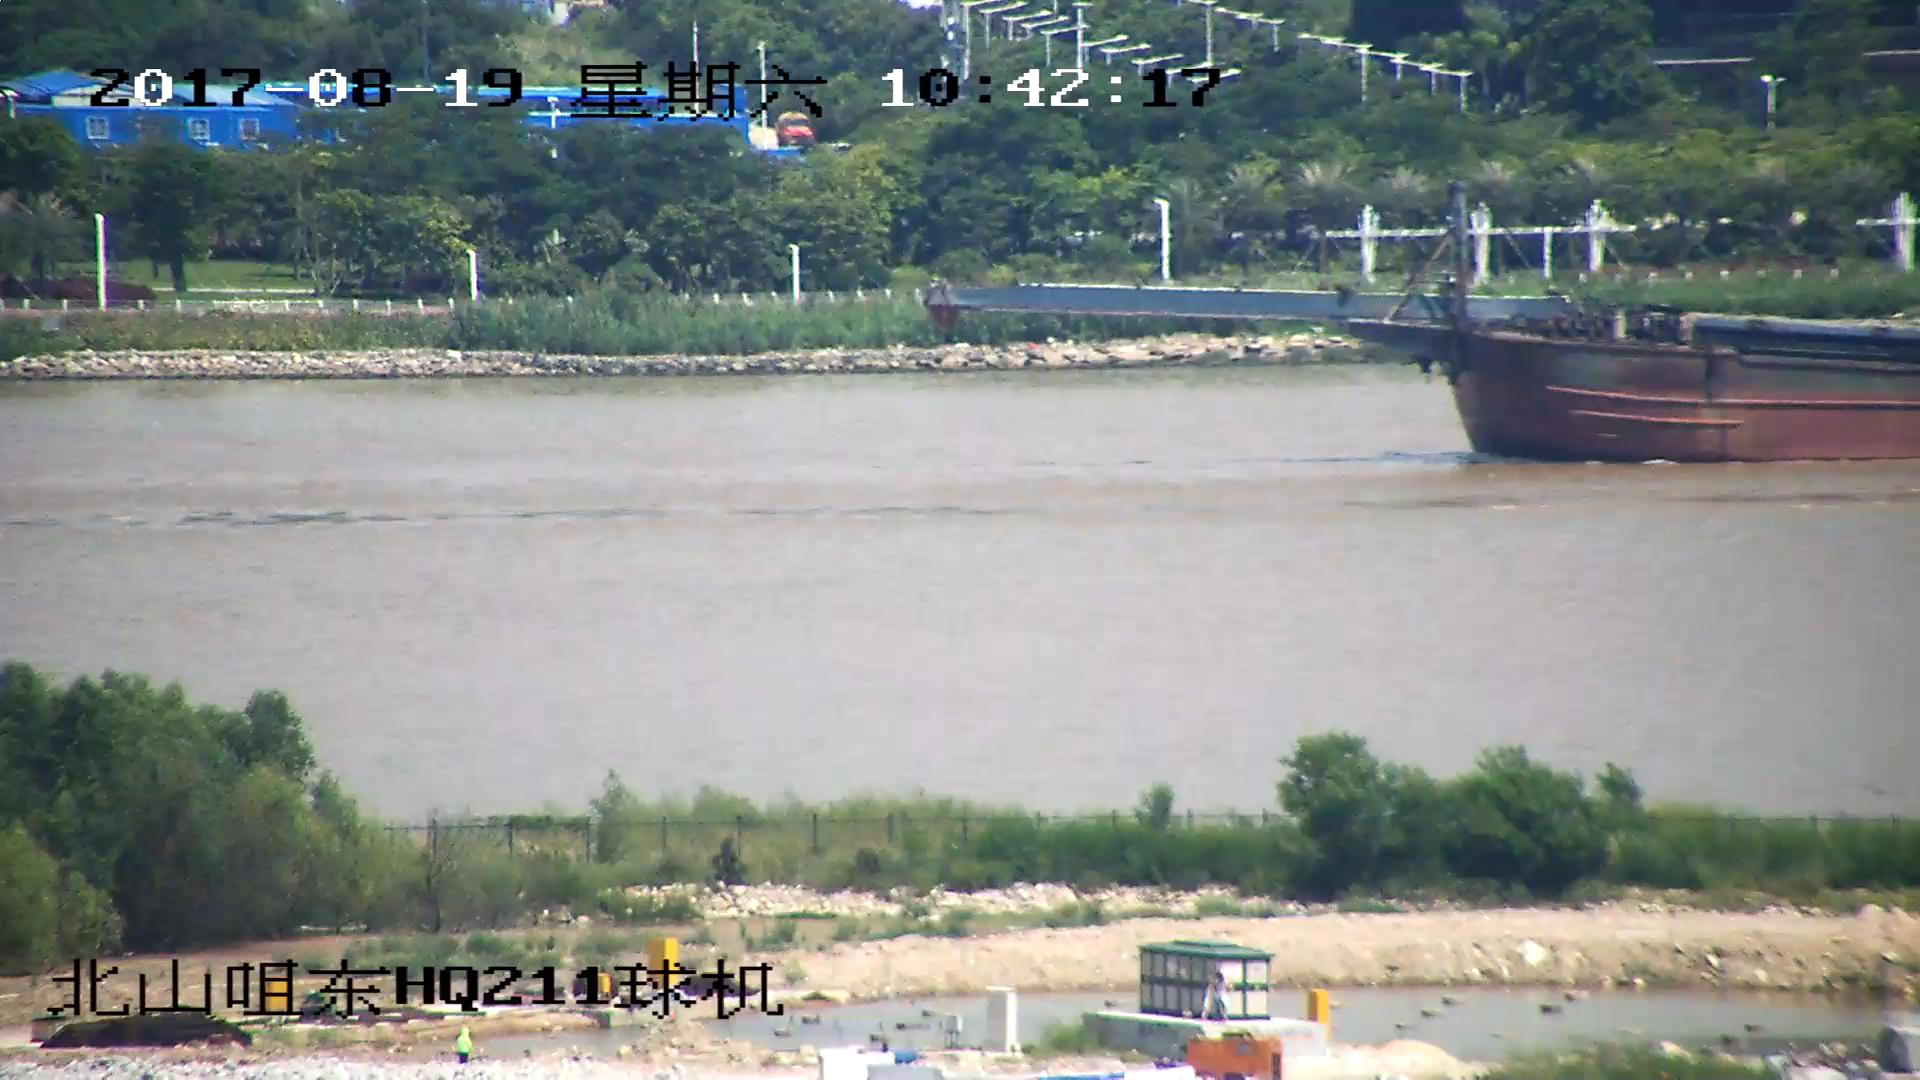bulk cargo carrier: (930, 209, 1920, 466)
